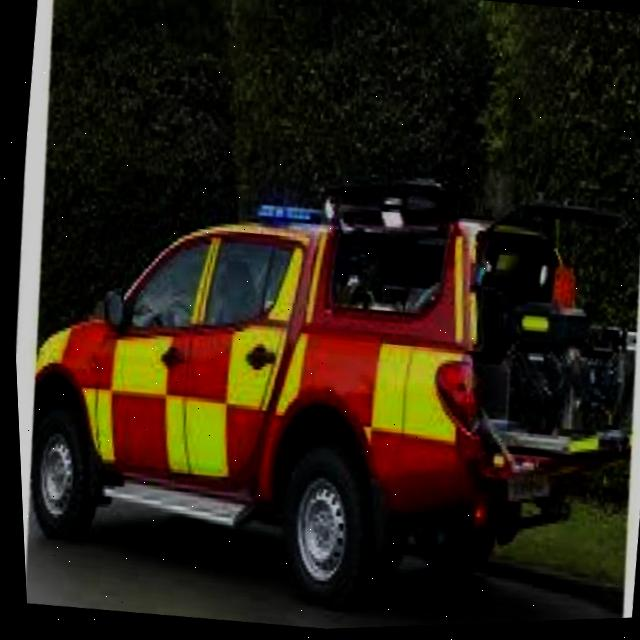emergency: (5, 126, 640, 640)
